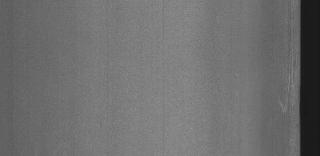silk spot: (270, 58, 296, 119)
